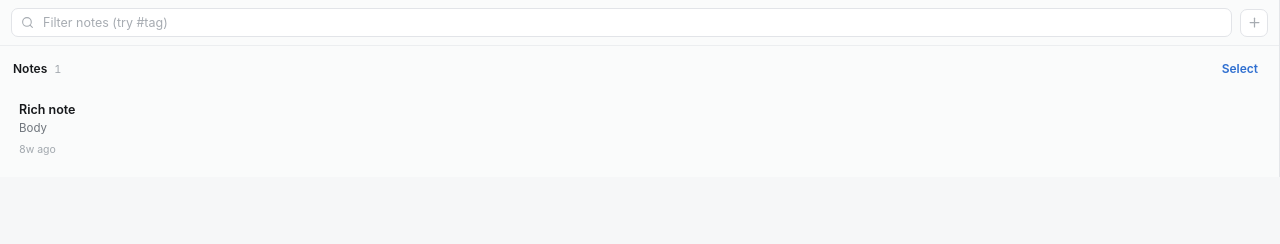
note context menu › opens on right-click and runs the chosen action
The image size is (1280, 244).
Right-click the button with class "note-card": point(47, 110) [8,93,1271,165]
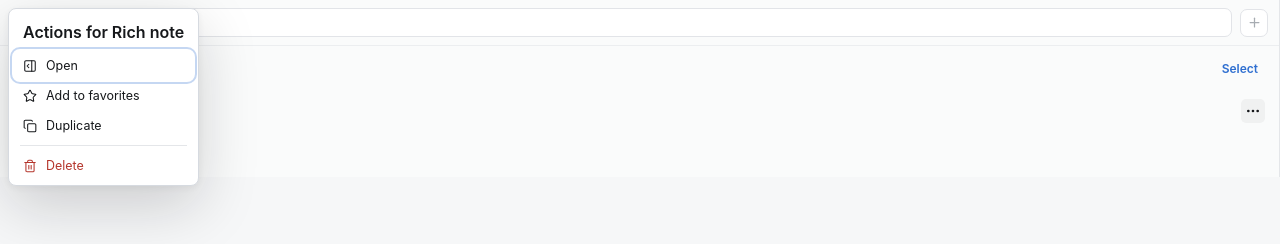
Expected: the menu with class "note-context-menu" is shown, [8,8,199,186]
Click the menu item "Duplicate": point(104, 126) [14,111,193,140]
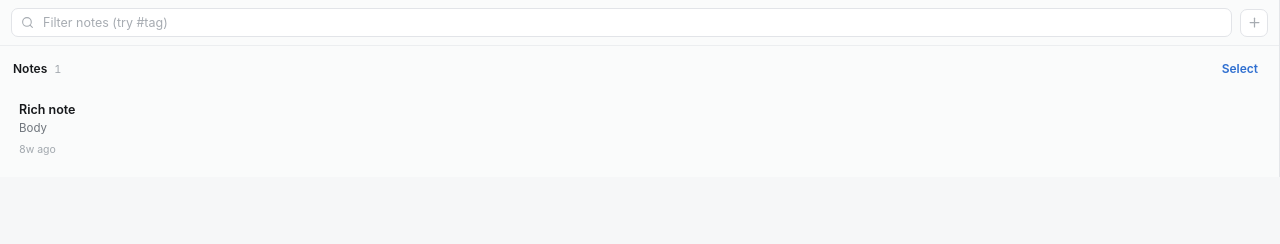
Expected: the menu with class "note-context-menu" is gone
